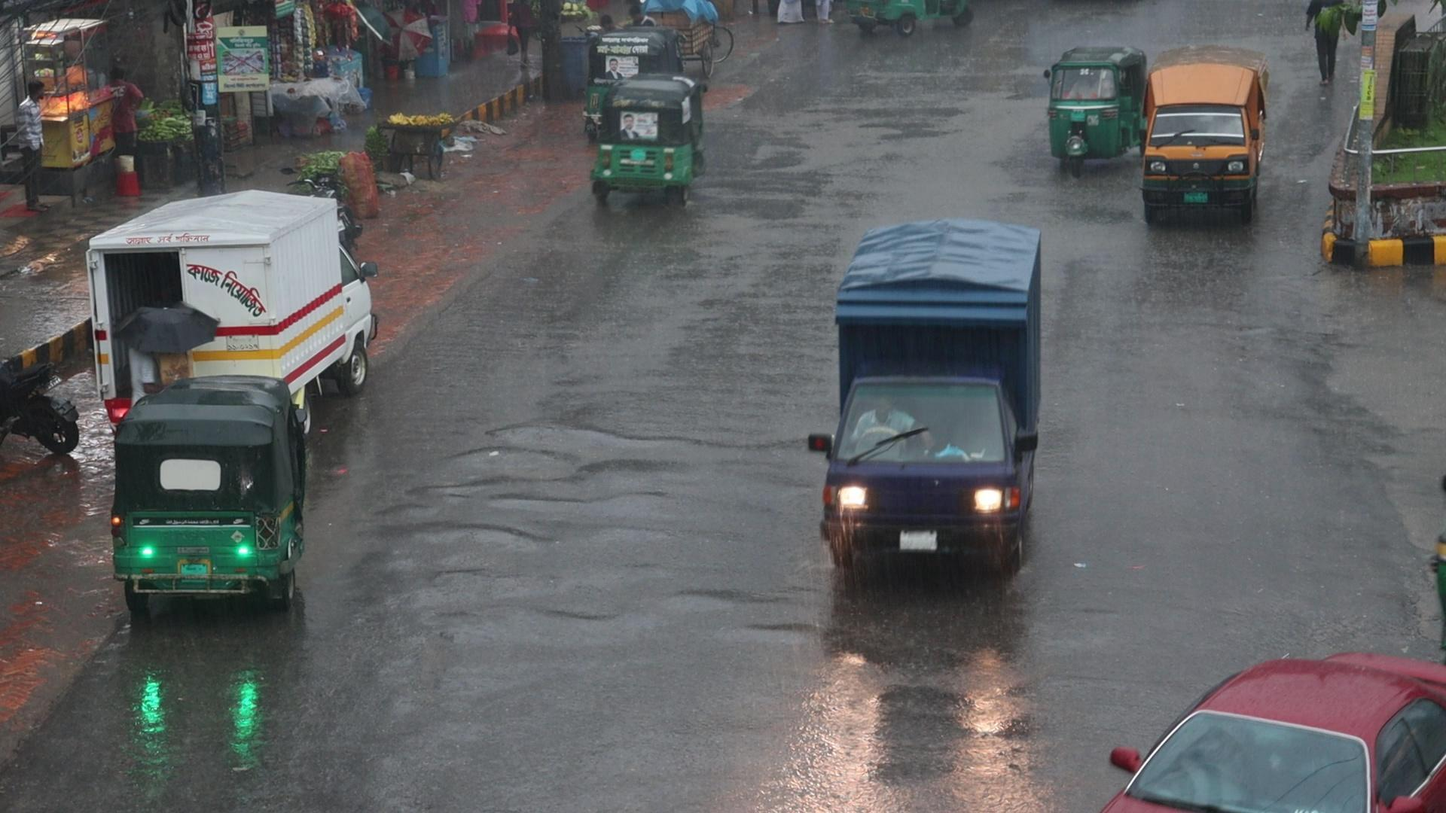Truck: (821, 210, 1051, 606), (1132, 59, 1270, 226)
